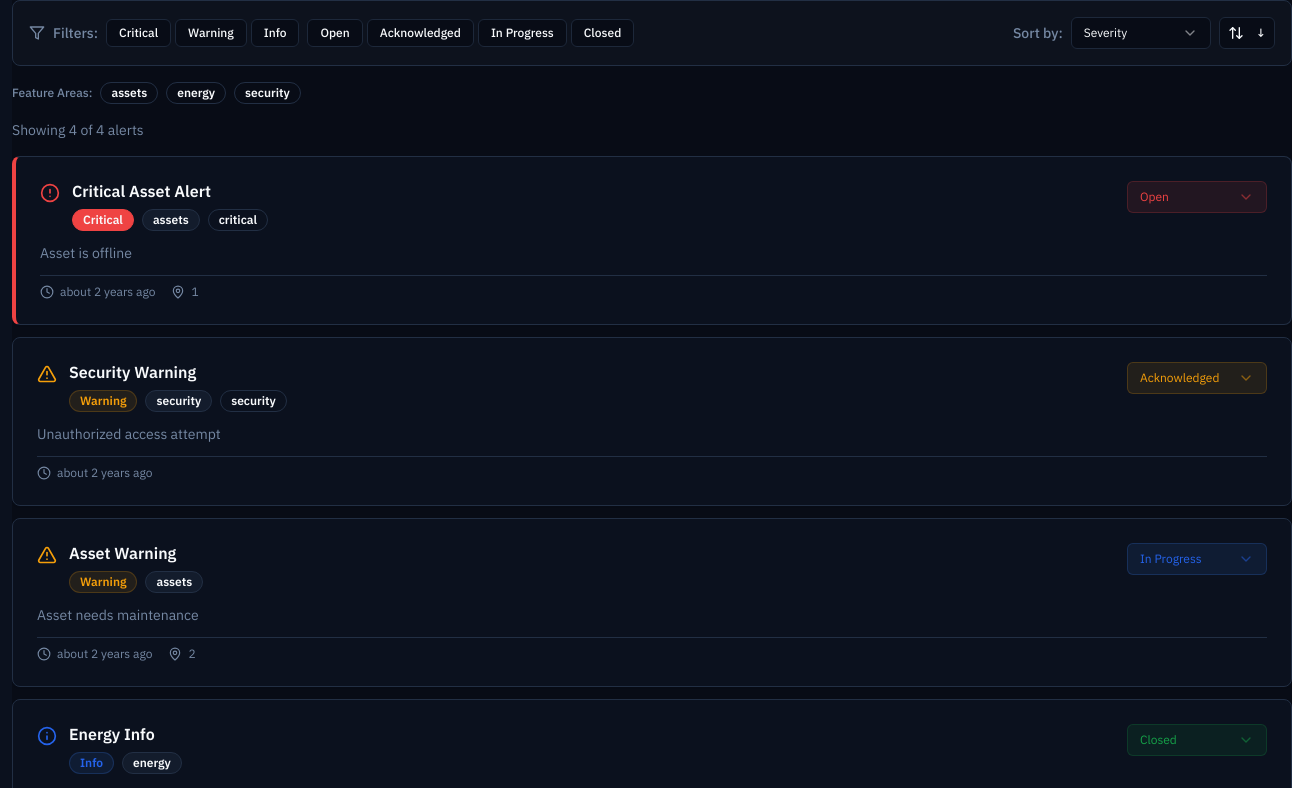
Test: AlertList › toggles sort direction
Note: Toggle to asc
Click the button named "Sort direction:" at (1247, 33), box [1219,17,1275,49]
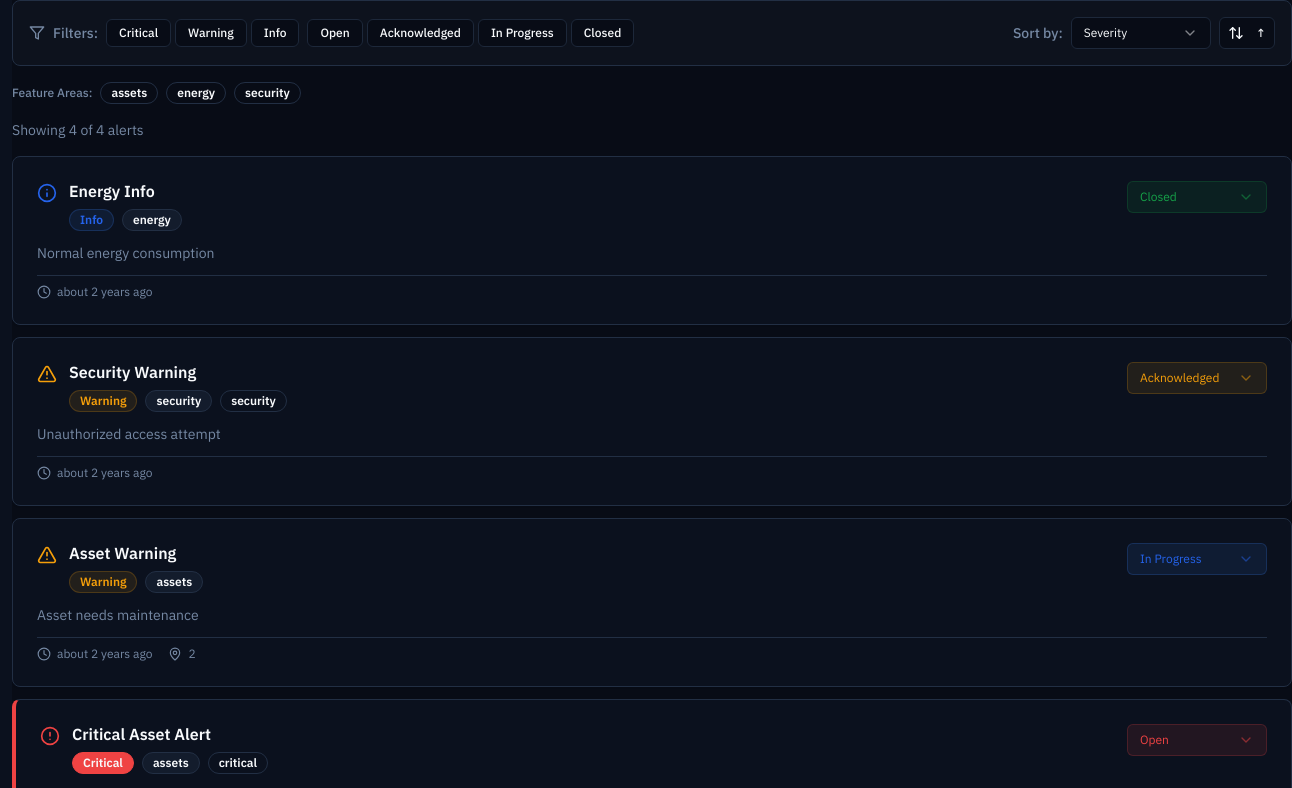
Now the button named "Sort direction:" reads "↑"
Note: Toggle back to desc
Click the button named "Sort direction:" at (1247, 33), box [1219,17,1275,49]
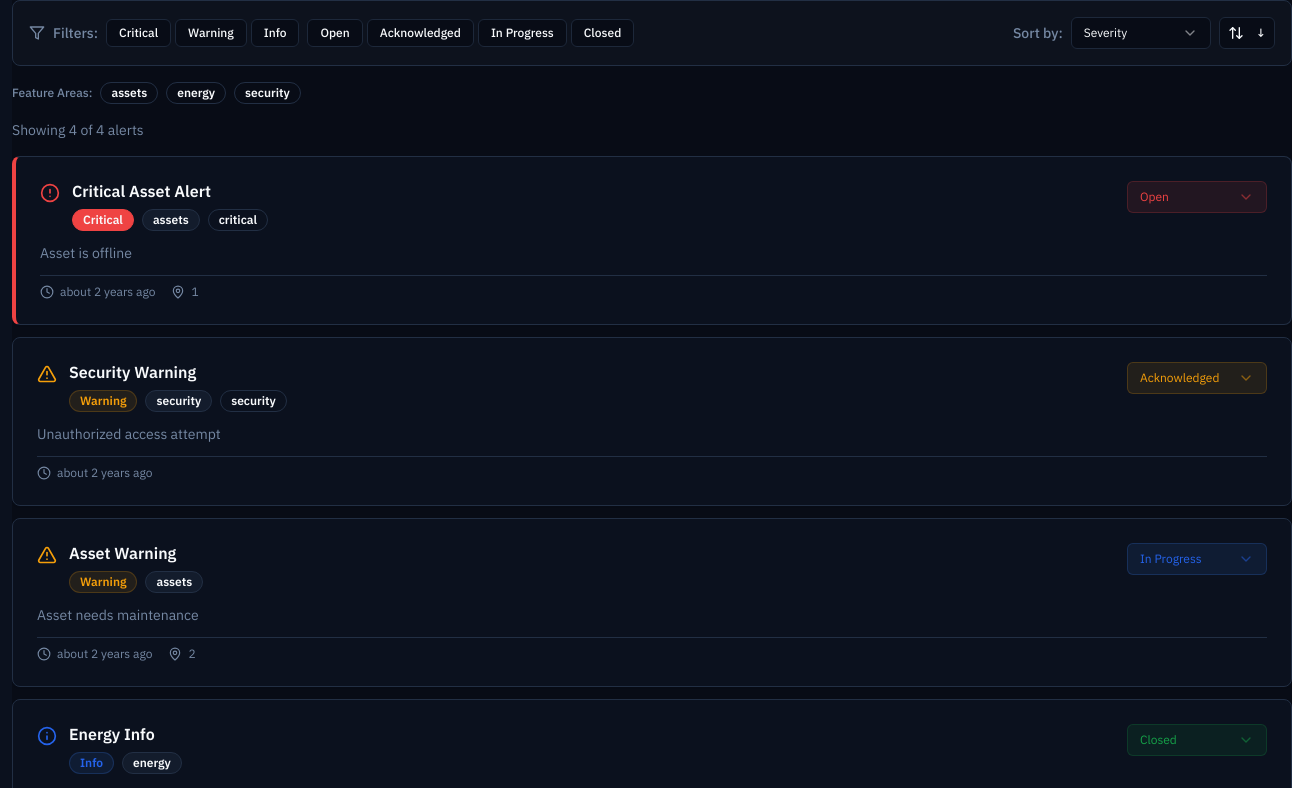
Now the button named "Sort direction:" reads "↓", box [1219,17,1275,49]
